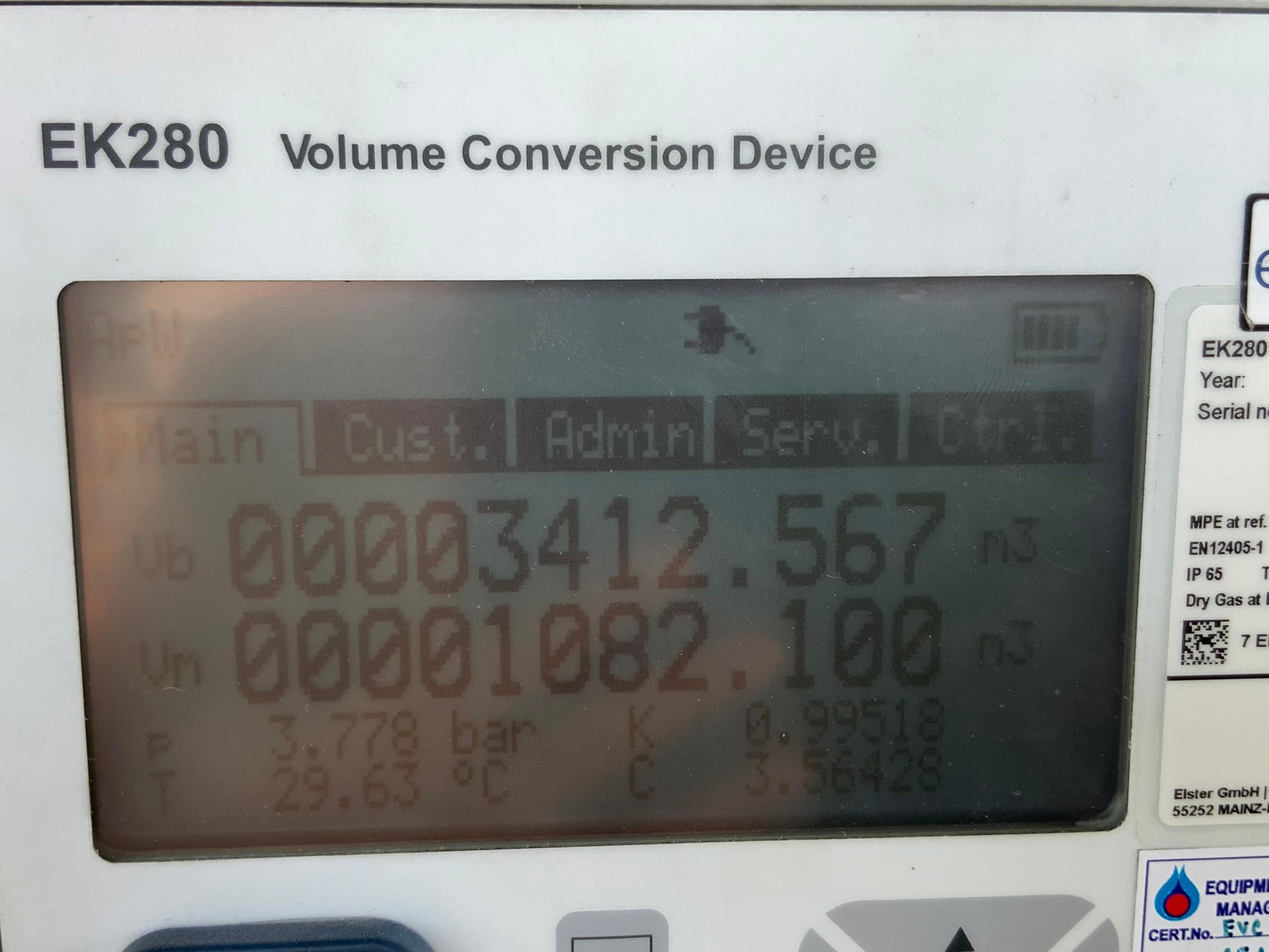digital_screen: (63, 284, 1154, 859)
